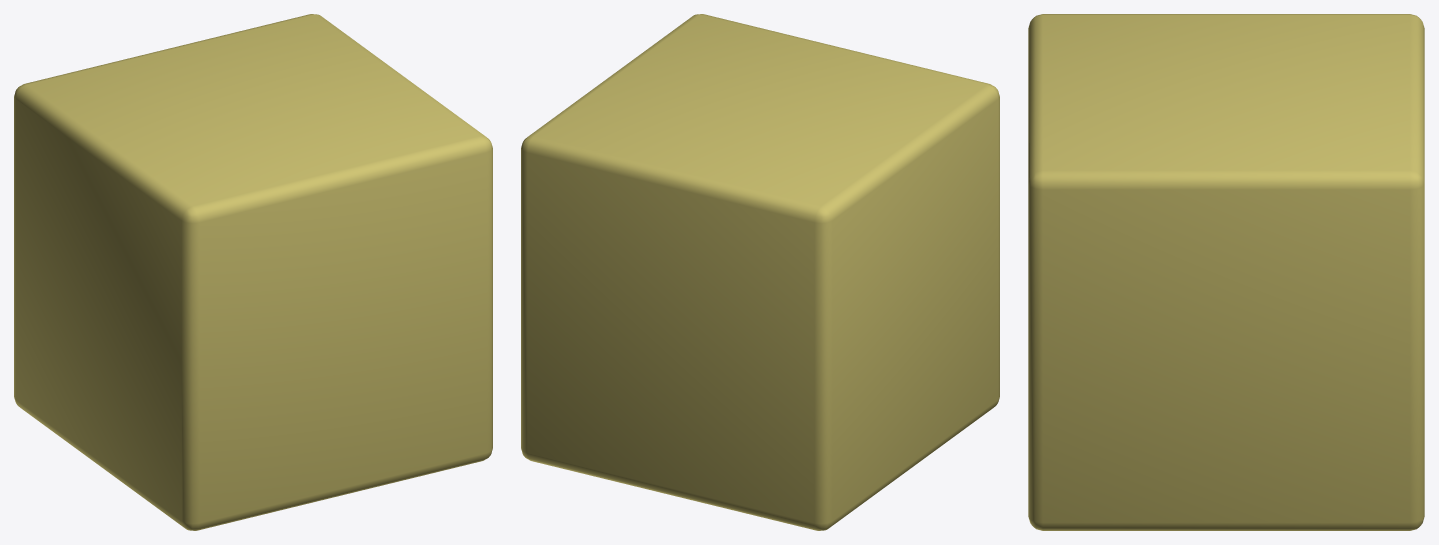
The model's file is Coin4.fbx.
The picture shows the model from 3 angles, left to right: view 1: azimuth 30°, elevation 25°; view 2: azimuth 150°, elevation 25°; view 3: azimuth 270°, elevation 25°; orthographic projection. The views are drawn at different scales.
Parts seen in each view (by area): view 1: GoldCoin; view 2: GoldCoin; view 3: GoldCoin.
Part boxes in pixels (<box>): GoldCoin: <box>14,14,492,530</box>; GoldCoin: <box>521,14,999,530</box>; GoldCoin: <box>1028,14,1424,530</box>.
Size of the model in its own units: 200 by 200 by 200.
